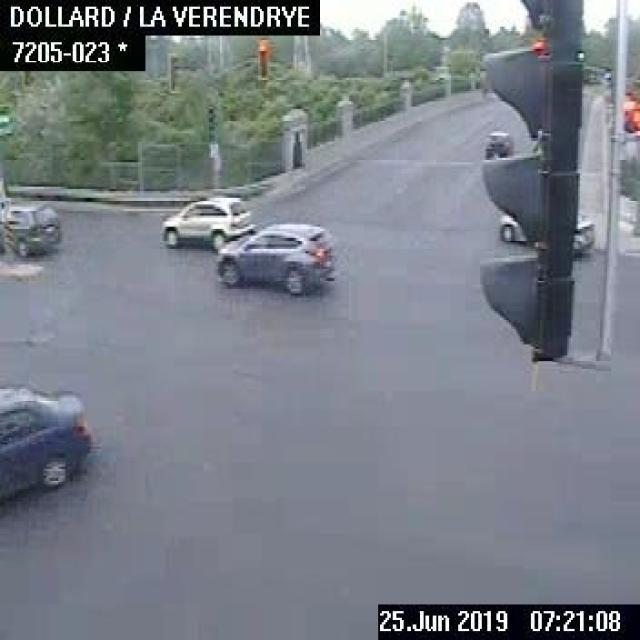vehicle: (0, 382, 98, 502), (213, 222, 338, 298), (161, 193, 254, 248), (492, 213, 596, 249), (0, 200, 62, 260), (480, 126, 515, 158)
